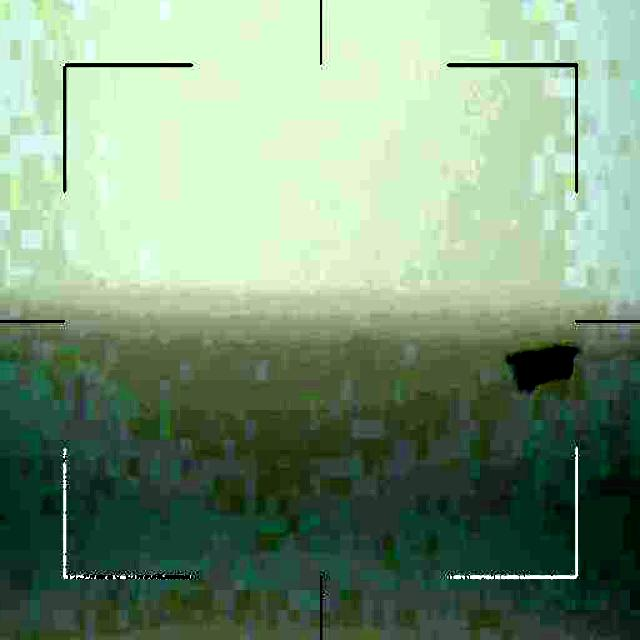bird: (512, 339, 584, 389)
